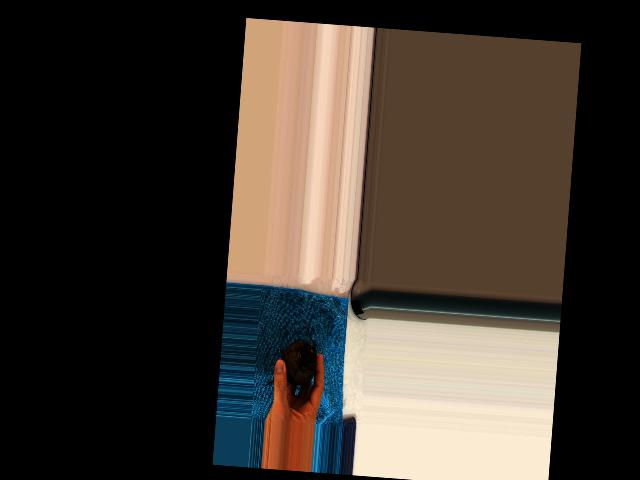beet: (264, 324, 318, 389)
